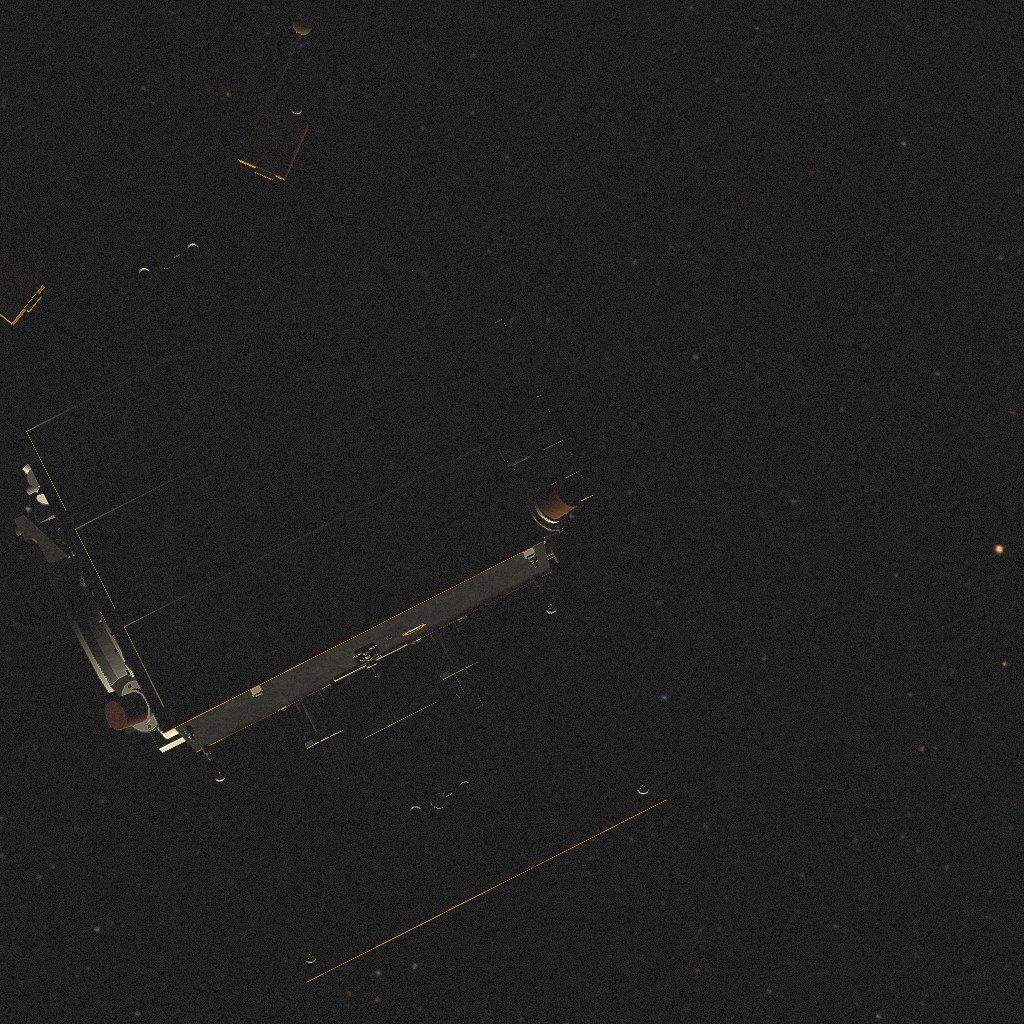proba_2: (0, 15, 666, 982)
